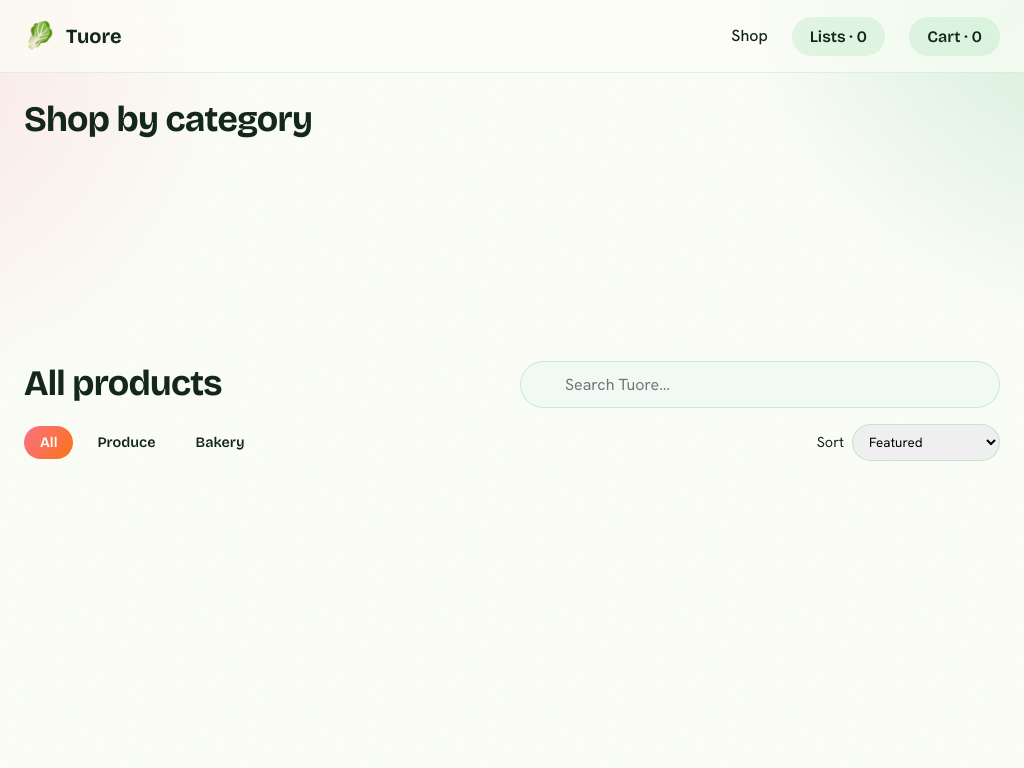
Scenario: SearchAutocomplete (via StoreHome) › closes dropdown on Escape
(page scrolled)
Type "avocado" into the dropdown named "Search products" at (760, 384), box [520, 361, 1000, 408]
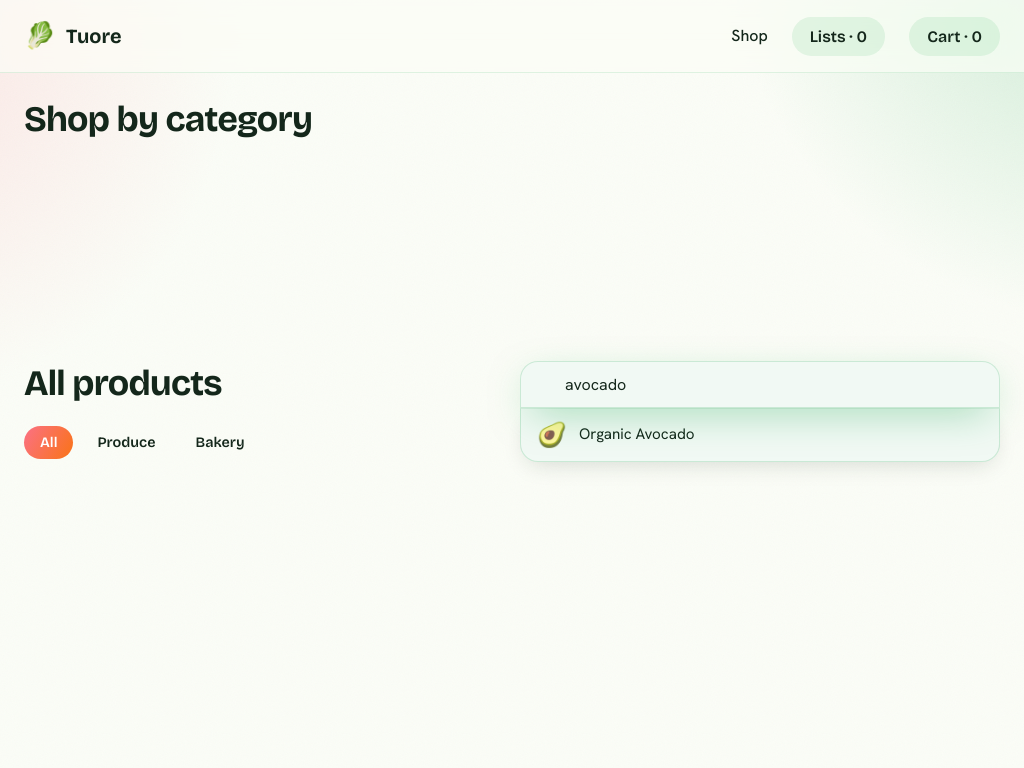
Now the dropdown named "Search products" is expanded
Press Escape in the dropdown named "Search products", box [520, 361, 1000, 408]
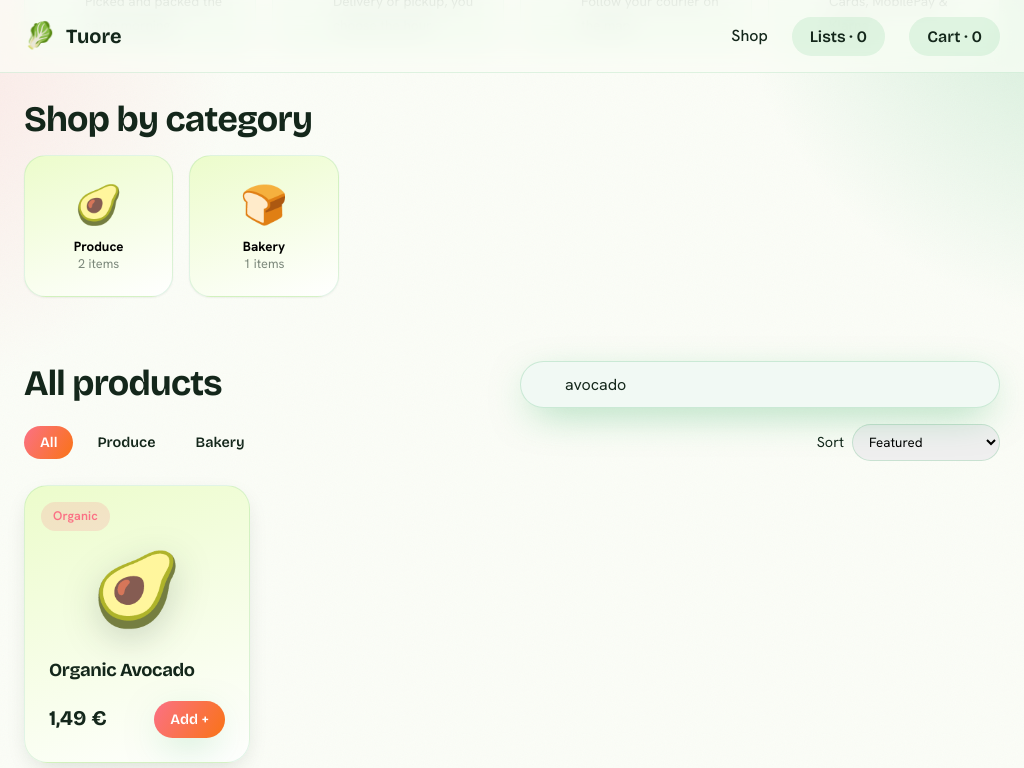
Now the dropdown named "Search products" is collapsed, box [520, 361, 1000, 408]
